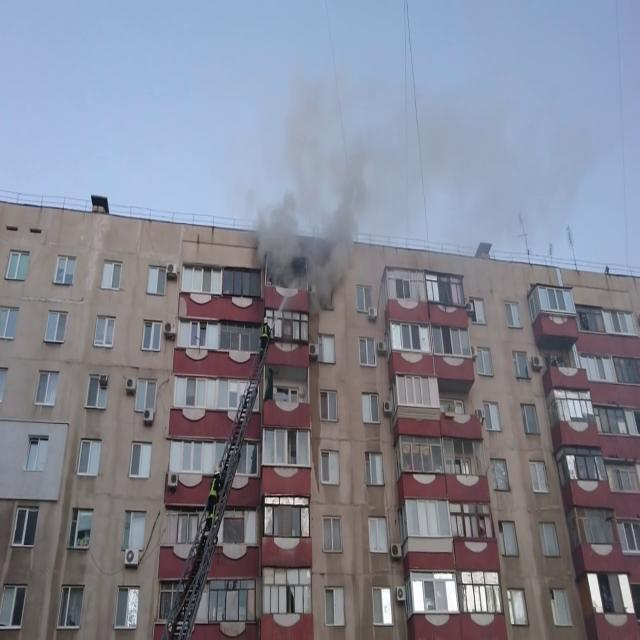Smoke: (235, 2, 603, 280)
